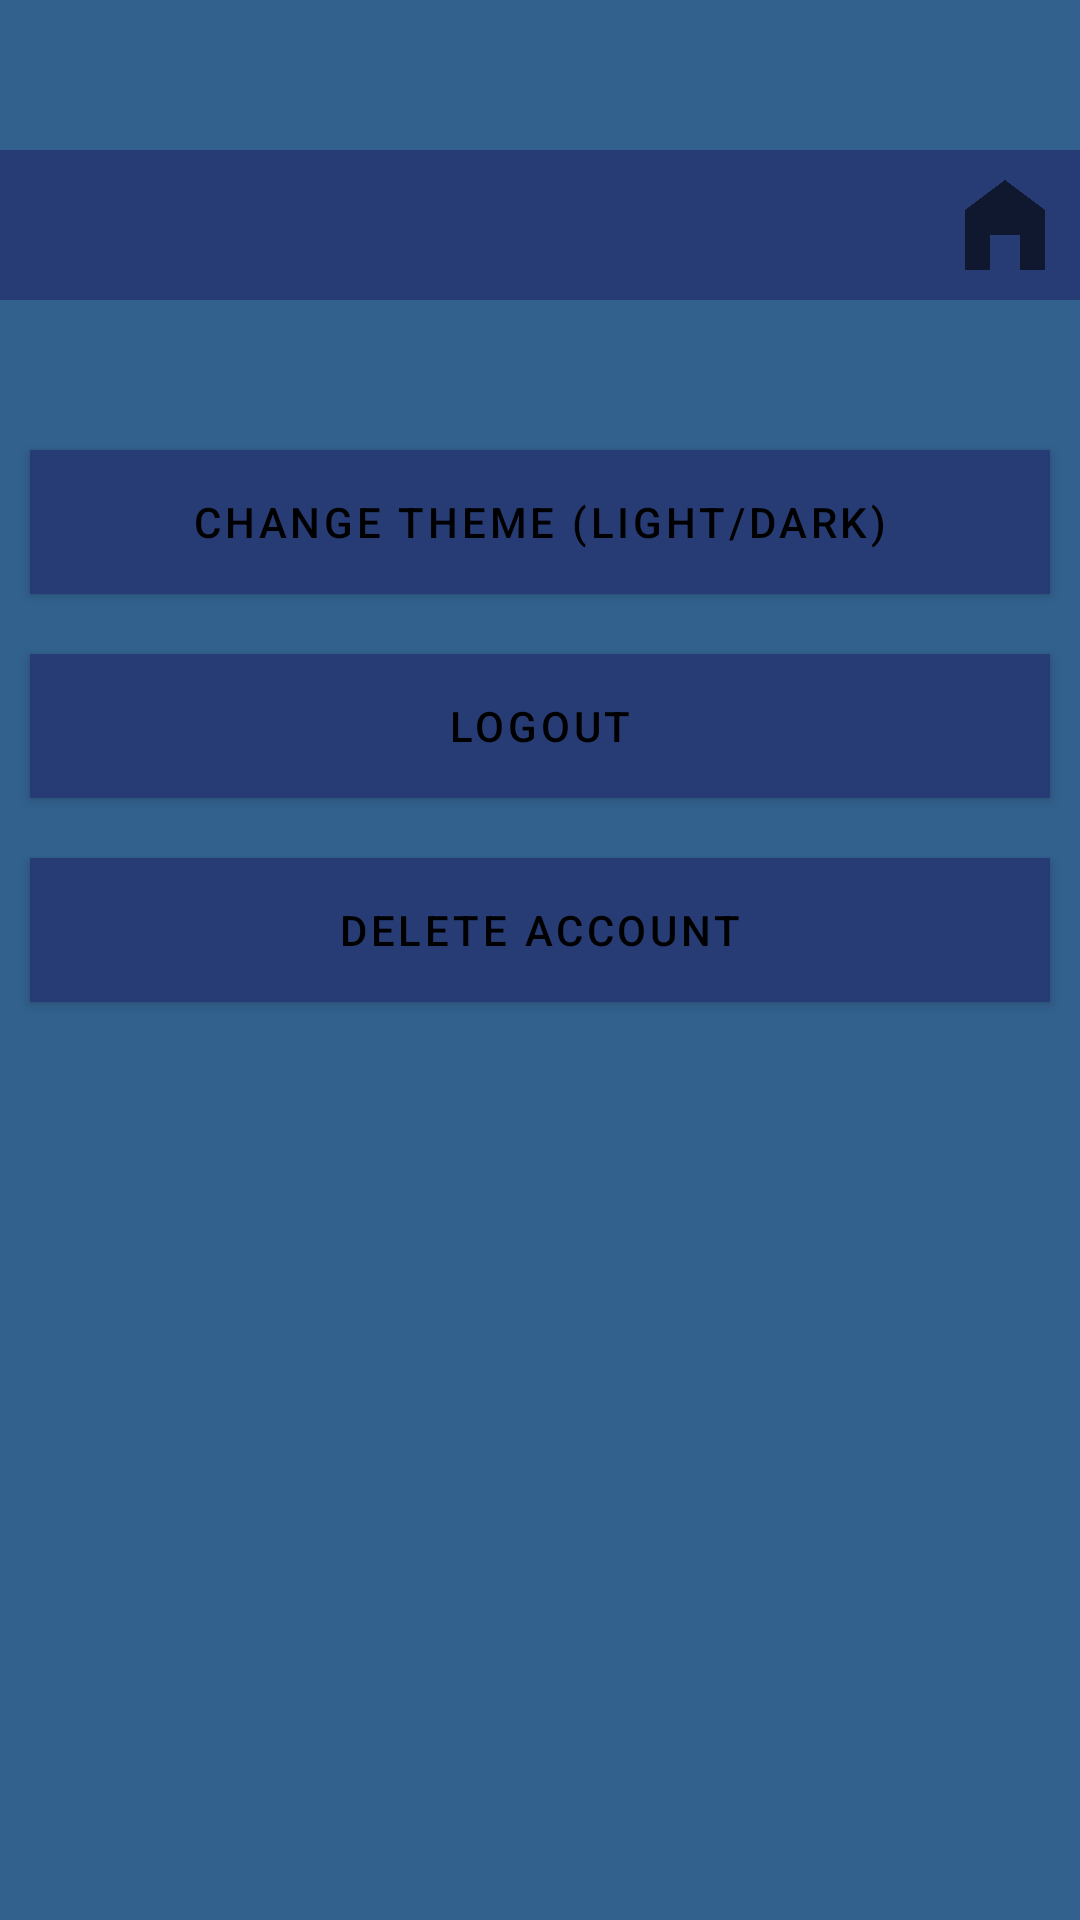

Named icons in this screenshot (1080×1920) and their centers, point (x, y):
Home: point (1005, 225)
